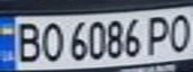0: (87, 17, 109, 61)
6: (124, 15, 148, 58), (66, 18, 87, 62)
8: (106, 17, 127, 60)
B: (9, 19, 45, 64)
O: (163, 10, 193, 54), (36, 19, 66, 63)
P: (145, 12, 175, 56)
